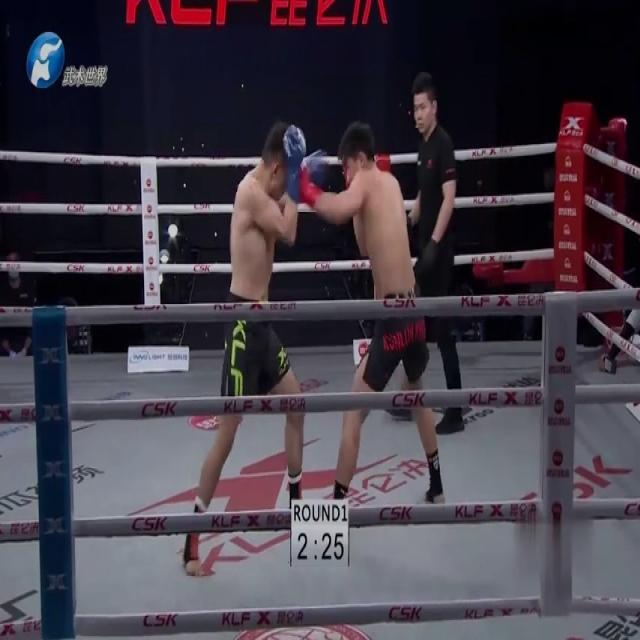fight: (183, 105, 450, 587)
non-fight: (406, 68, 467, 436), (600, 283, 640, 380)
